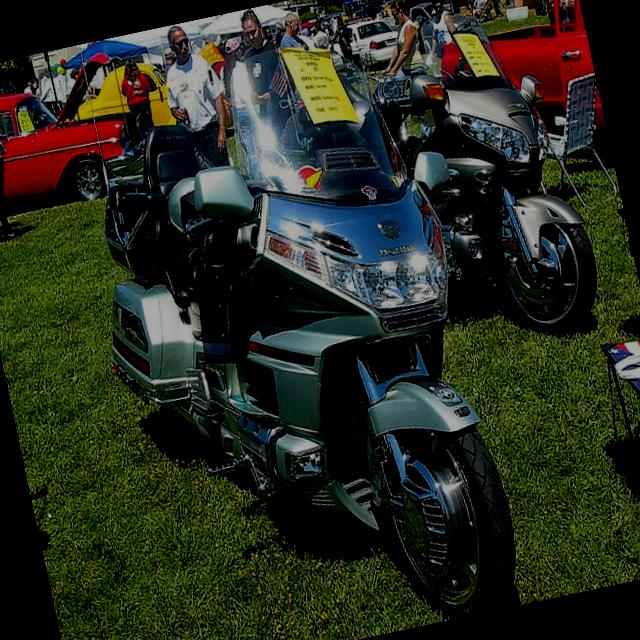Vehicle: (40, 0, 533, 640), (372, 0, 612, 367), (0, 53, 141, 221), (481, 0, 608, 158), (66, 55, 180, 145), (348, 15, 404, 68), (370, 64, 428, 114), (349, 0, 378, 23), (300, 16, 320, 32)
